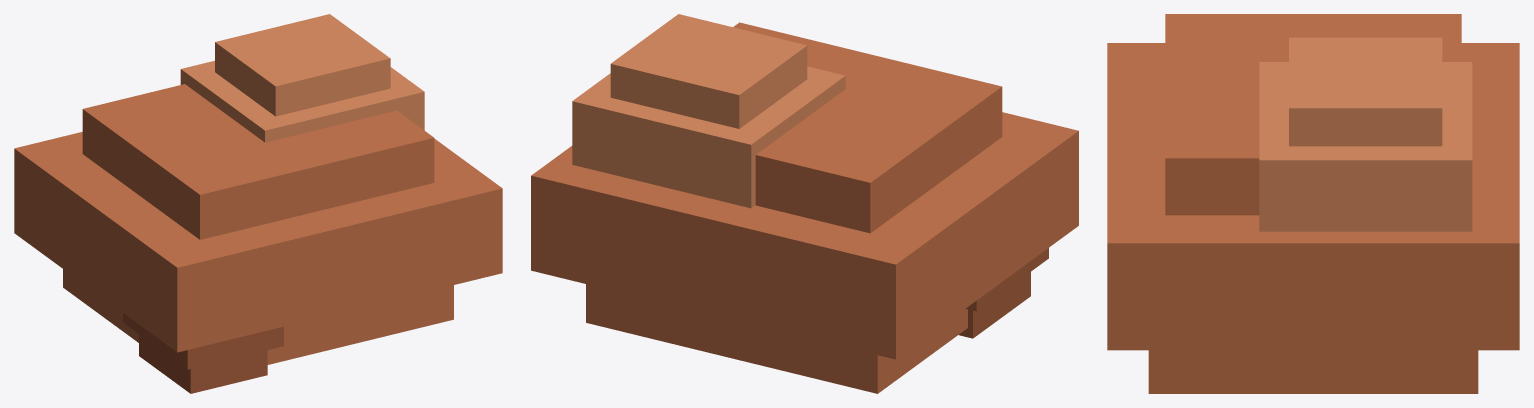
Rendered from clay-lump-blocky.glb.
The picture shows the model from 3 angles, left to right: view 1: azimuth 30°, elevation 25°; view 2: azimuth 150°, elevation 25°; view 3: azimuth 270°, elevation 25°; orthographic projection. The views are drawn at different scales.
Parts seen in each view (by area): view 1: clay-lump; view 2: clay-lump; view 3: clay-lump.
Boxes of the visible parts, <box> form: clay-lump: <box>14,14,502,393</box>; clay-lump: <box>531,14,1078,393</box>; clay-lump: <box>1107,14,1519,393</box>.
Bounding box in the file's own units: 0.2777 × 0.1883 × 0.2412.
